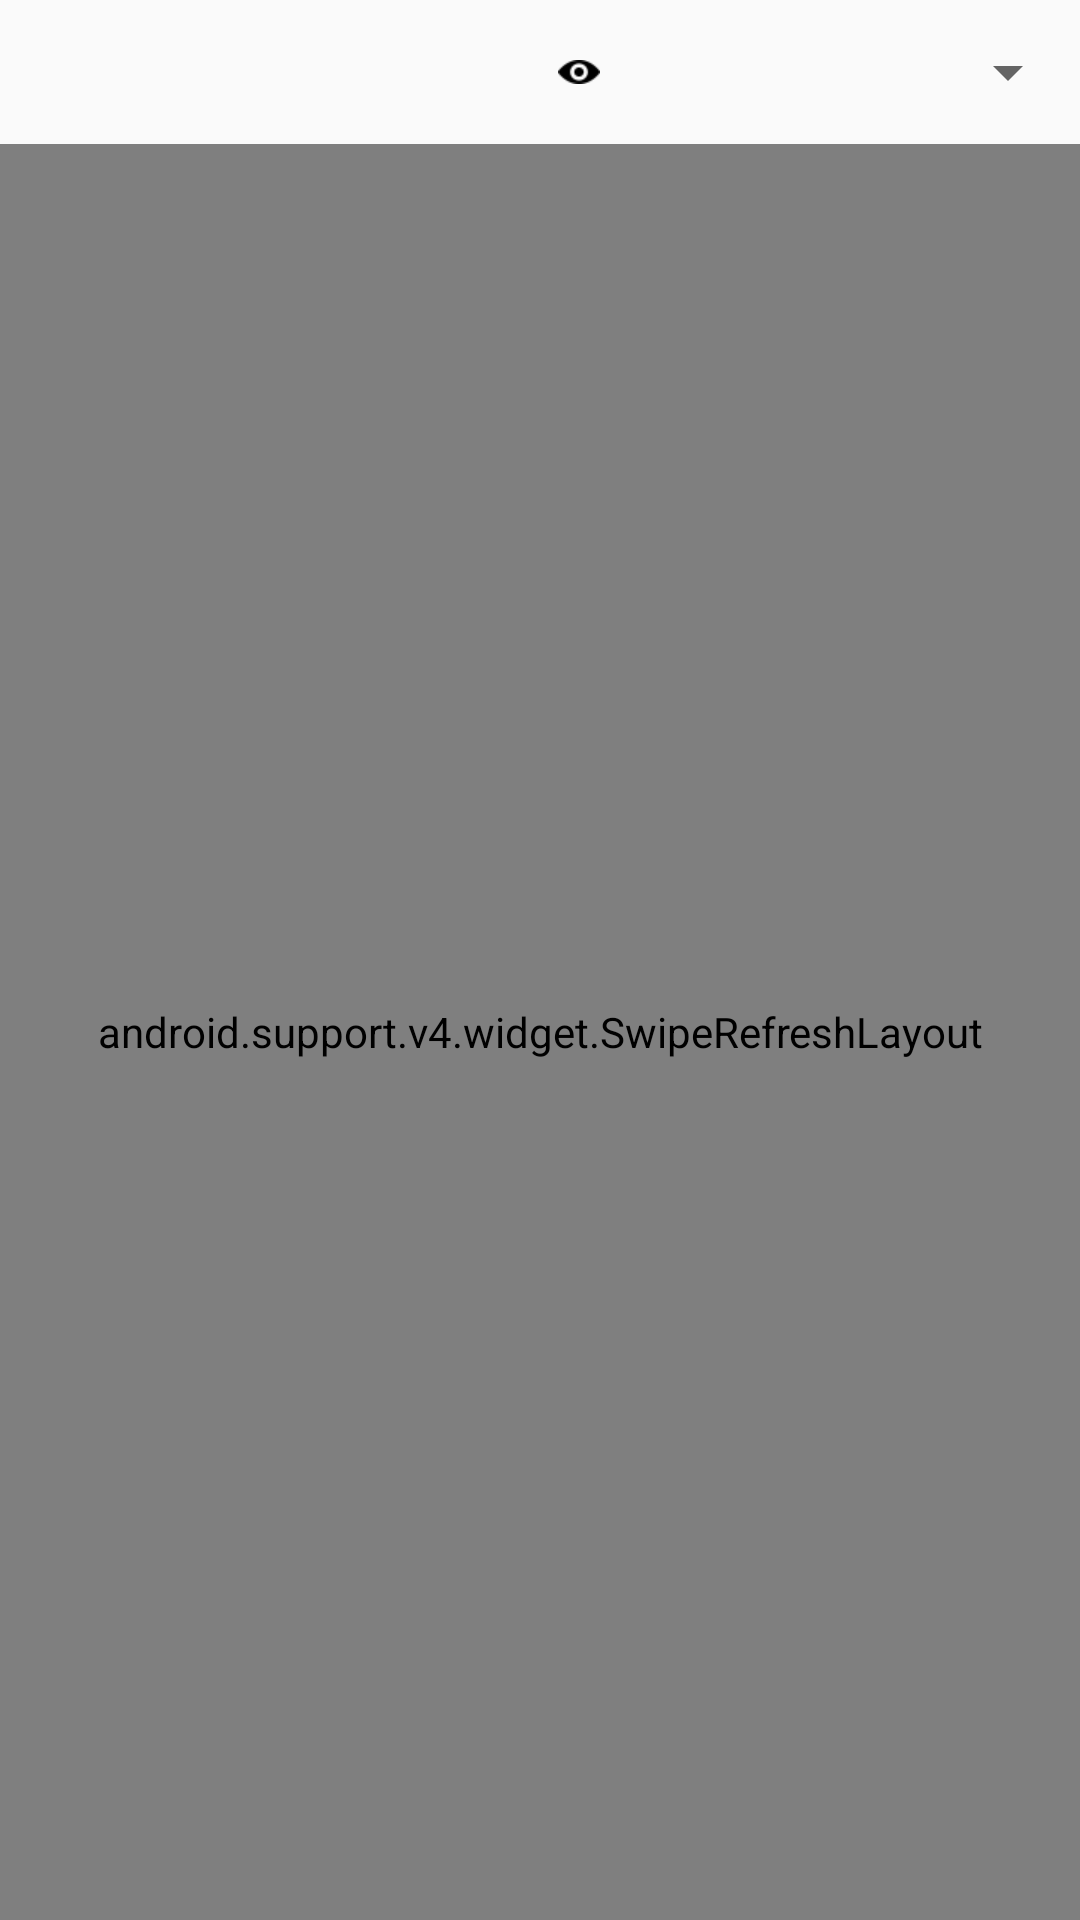

Locate icon controls on the screen. Image size 1080px x 1920px, boxes as (x1, y1, x2, y2).
eye: (558, 60, 600, 84)
